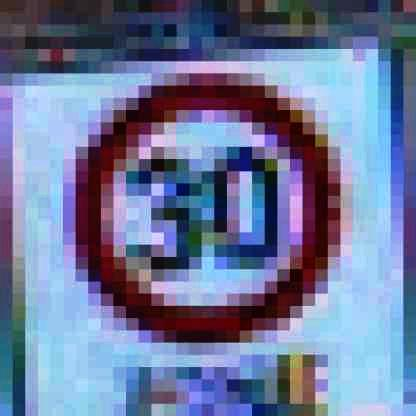Speed Limit -30-: (65, 65, 349, 351)
